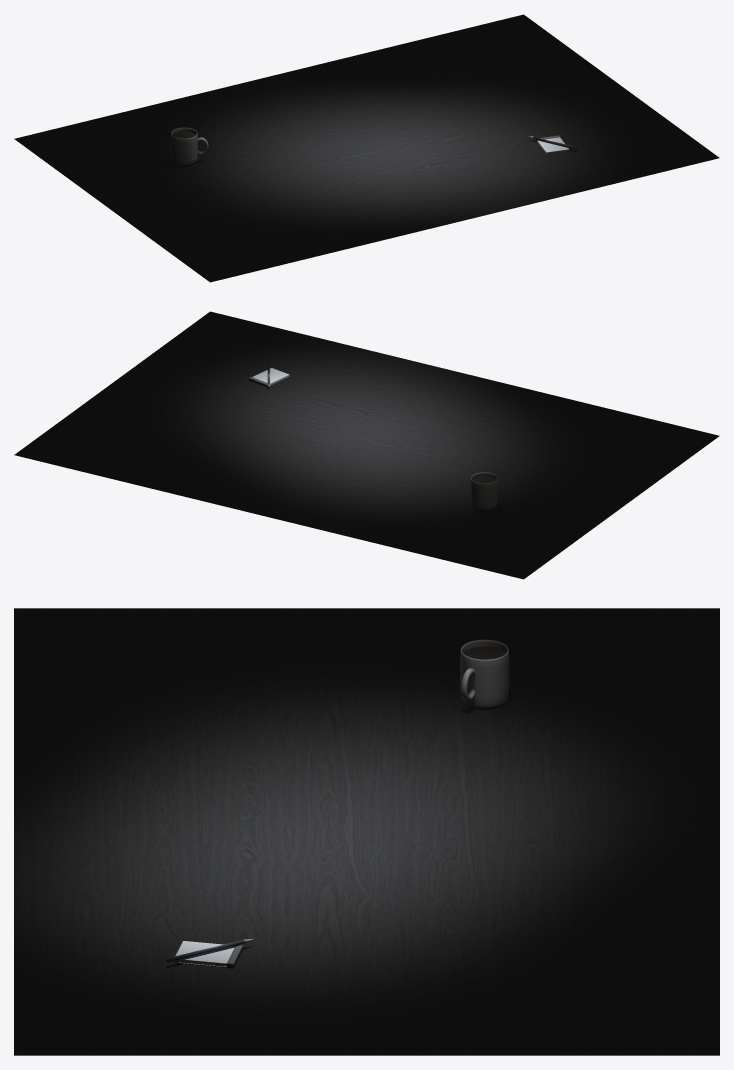
File: desk.glb
The picture shows the model from 3 angles, top to bottom: view 1: azimuth 30°, elevation 25°; view 2: azimuth 150°, elevation 25°; view 3: azimuth 270°, elevation 25°; orthographic projection. The views are drawn at different scales.
Parts seen in each view (by area): view 1: Desk, Mug.001; view 2: Desk, Mug.001; view 3: Desk, Mug.001, Notepad.001.
Boxes of the visible parts, x1,y1,x2,y2 form: Desk: (14,14,719,282); Mug.001: (170,127,208,165); Desk: (14,311,719,579); Mug.001: (470,472,497,510); Desk: (14,608,719,1055); Mug.001: (460,639,509,708); Notepad.001: (173,941,242,967).
Bounding box in the file's own units: 1.8 × 0.0947 × 1.2.
4 materials, 4 textured.
